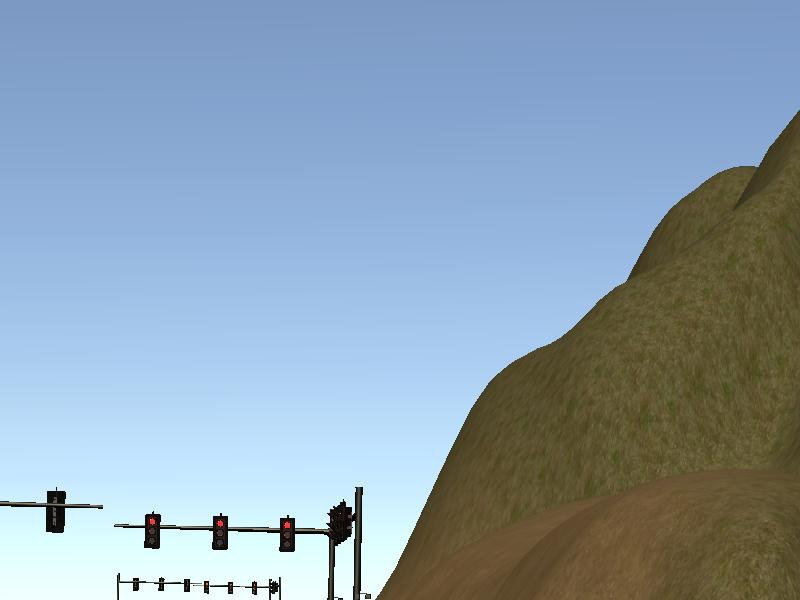red_light: (281, 517, 296, 554), (213, 513, 227, 552), (146, 512, 160, 549)
